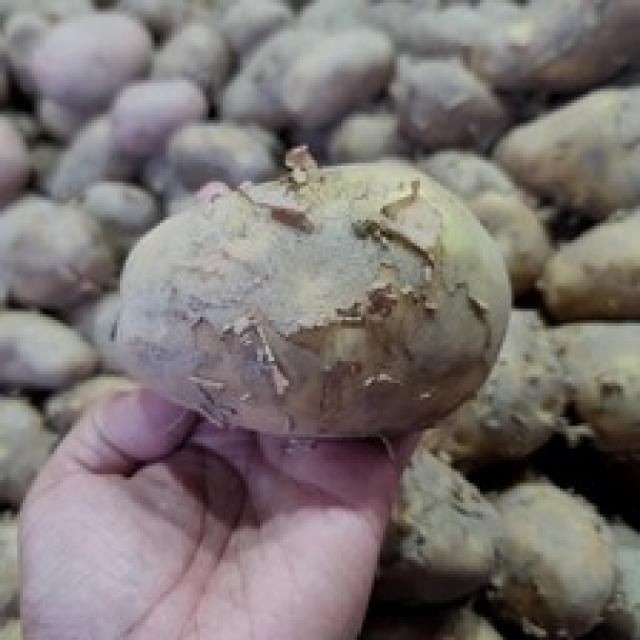Potato: (54, 150, 533, 462), (25, 0, 234, 156), (480, 475, 621, 640), (465, 0, 640, 124)
